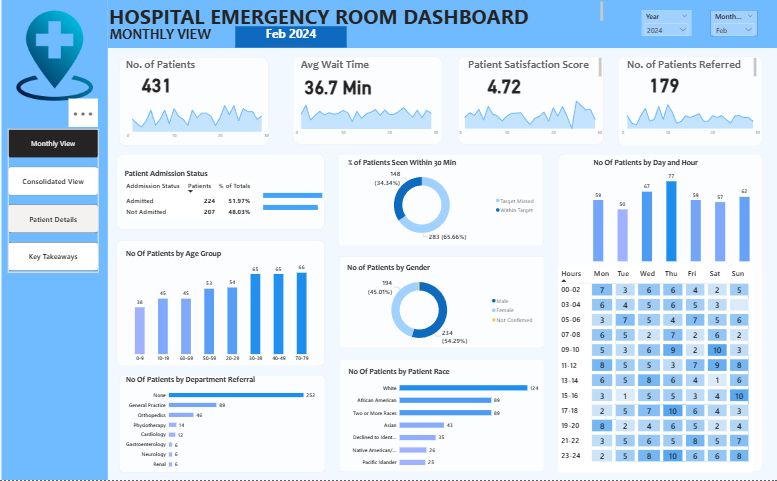

Layout of this report page (visuals, bound fields, positions):
{"tool":"powerbi","page":{"name":"Monthly View","canvas":[2300,1400],"ordinal":0},"visuals":[{"type":"shape","box":[8.6,0,310,1400.4],"z":0},{"type":"shape","box":[317.2,0,1983.4,140],"z":1000},{"type":"textbox","box":[317,0,1449.3,75.9],"z":2000},{"type":"shape","box":[350.2,166.5,436.1,257.4],"z":3000},{"type":"textbox","box":[317.2,68.6,371.5,71.4],"z":4000},{"type":"card","fields":{"Values":["Hospital ER_Data - Hospital ER_Data.No Of Patients"]},"box":[383,200.1,154.3,82.9],"z":5000},{"type":"slicer","fields":{"Values":["Date Table.Year"]},"box":[1874.6,29.8,146.3,75.9],"z":6000},{"type":"slicer","fields":{"Values":["Date Table.Month Name"]},"box":[2075.1,29.8,138.2,75.9],"z":7000},{"type":"textbox","box":[363,162.5,284.4,73.1],"z":8000},{"type":"areaChart","fields":{"Category":["Date Table.Date.Variation.Date Hierarchy.Day"],"Y":["Hospital ER_Data - Hospital ER_Data.No Of Patients"]},"box":[360.3,281.7,433.4,132.7],"z":9000},{"type":"card","fields":{"Values":["Min(Date Table.Month & Year)"]},"box":[688.1,75.9,325.1,62.3],"z":10000},{"type":"shape","box":[1335.5,162.5,425.3,257.4],"z":11000},{"type":"card","fields":{"Values":["Hospital ER_Data - Hospital ER_Data.Satisfaction Score"]},"box":[1395.1,203.2,154.4,84],"z":12000},{"type":"textbox","box":[1362.6,162.5,398.2,65],"z":13000},{"type":"areaChart","fields":{"Category":["Date Table.Date.Variation.Date Hierarchy.Day"],"Y":["Hospital ER_Data - Hospital ER_Data.Satisfaction Score"]},"box":[1330.1,281.7,436.1,124.6],"z":14000},{"type":"shape","box":[1804.2,162.5,422.6,262.8],"z":15000},{"type":"card","fields":{"Values":["Hospital ER_Data - Hospital ER_Data.No of patients Reffered"]},"box":[1861.1,200.5,154.4,81.3],"z":16000},{"type":"textbox","box":[1825.9,162.5,387.4,65],"z":17000},{"type":"shape","box":[344,449.7,606.8,222.1],"z":18000},{"type":"areaChart","fields":{"Category":["Date Table.Date.Variation.Date Hierarchy.Day"],"Y":["Hospital ER_Data - Hospital ER_Data.No of patients Reffered"]},"box":[1804.2,281.7,422.6,124.6],"z":19000},{"type":"shape","box":[856,162.5,436.1,257.4],"z":20000},{"type":"card","fields":{"Values":["Hospital ER_Data - Hospital ER_Data.Avg Wait Time"]},"box":[875,205.9,227.6,81.3],"z":21000},{"type":"textbox","box":[875,162.5,276.3,70.4],"z":22000},{"type":"areaChart","fields":{"Category":["Date Table.Date.Variation.Date Hierarchy.Day"],"Y":["Avg(Hospital ER_Data - Hospital ER_Data.Patient Waittime)"]},"box":[853.3,281.7,436.1,124.6],"z":23000},{"type":"pivotTable","title":"Patient Admission Status","fields":{"Rows":["Hospital ER_Data - Hospital ER_Data.Addmission Status"],"Values":["Hospital ER_Data - Hospital ER_Data.No Of Patients","Divide(Hospital ER_Data - Hospital ER_Data.No Of Patients, ScopedEval(Hospital ER_Data - Hospital ER_Data.No Of Patients"]},"box":[360.3,490.3,623.1,181.5],"z":24000},{"type":"barChart","fields":{"Category":["Hospital ER_Data - Hospital ER_Data.Addmission Status"],"Y":["Hospital ER_Data - Hospital ER_Data.No Of Patients"]},"box":[766.6,531,241.1,105.7],"z":25000},{"type":"shape","box":[344,698.9,606.8,368],"z":26000},{"type":"clusteredColumnChart","fields":{"Category":["Hospital ER_Data - Hospital ER_Data.Age Group"],"Y":["Hospital ER_Data - Hospital ER_Data.No Of Patients"]},"box":[365.7,726,566.2,341.3],"z":27000},{"type":"shape","box":[349.5,1091.7,601.4,284.4],"z":28000},{"type":"clusteredBarChart","fields":{"Category":["Hospital ER_Data - Hospital ER_Data.Department Referral"],"Y":["Hospital ER_Data - Hospital ER_Data.No Of Patients"]},"box":[363,1091.7,566.2,284.4],"z":29000},{"type":"shape","box":[988.8,449.7,600,270],"z":30000},{"type":"donutChart","title":"% of Patients Seen Within 30 Min","fields":{"Category":["Hospital ER_Data - Hospital ER_Data.Waittime Status"],"Y":["Hospital ER_Data - Hospital ER_Data.No Of Patients"]},"box":[1013.2,457.8,560.8,249.2],"z":31000},{"type":"shape","box":[991.5,747.7,598.7,268.2],"z":32000},{"type":"donutChart","title":"No of Patients by Gender","fields":{"Y":["Hospital ER_Data - Hospital ER_Data.No Of Patients"],"Category":["Hospital ER_Data - Hospital ER_Data.Patient Gender"]},"box":[1007.7,766.6,560.8,249.2],"z":33000},{"type":"shape","box":[991.5,1045.7,598.7,330.5],"z":34000},{"type":"clusteredBarChart","fields":{"Y":["Hospital ER_Data - Hospital ER_Data.No Of Patients"],"Category":["Hospital ER_Data - Hospital ER_Data.Patient Race"]},"box":[1013.2,1067.3,566.2,308.8],"z":35000},{"type":"image","box":[27.1,24.4,273.6,273.6],"z":36000},{"type":"shape","box":[1628.1,449.7,598.7,926.5],"z":37000},{"type":"pivotTable","fields":{"Rows":["Hospital ER_Data - Hospital ER_Data.Waittime Interval"],"Columns":["Date Table.Day Name"],"Values":["Hospital ER_Data - Hospital ER_Data.No Of Patients"]},"box":[1628.1,774.8,568.9,601.4],"z":38000},{"type":"columnChart","title":"No Of Patients by Day and Hour","fields":{"Category":["Date Table.Day Name"],"Y":["Hospital ER_Data - Hospital ER_Data.No Of Patients"]},"box":[1728.3,457.8,468.7,308.8],"z":39000},{"type":"pageNavigator","box":[27.1,376.6,265.5,417.2],"z":39001}]}

Visuals, with their boxes in screenshot pixels (x1, y1, x2, y2), scaled from the page's 2300x1400 canvas onto the 777x481 screenshot:
shape: [3, 0, 108, 480]
shape: [107, 0, 776, 48]
textbox: [107, 0, 597, 26]
shape: [118, 57, 266, 146]
textbox: [107, 24, 233, 48]
card - Hospital ER_Data - Hospital ER_Data.No Of Patients: [129, 69, 182, 97]
slicer - Date Table.Year: [633, 10, 683, 36]
slicer - Date Table.Month Name: [701, 10, 748, 36]
textbox: [123, 56, 219, 81]
areaChart - Date Table.Date.Variation.Date Hierarchy.Day x Hospital ER_Data - Hospital ER_Data.No Of Patients: [122, 97, 268, 142]
card - Min(Date Table.Month & Year): [232, 26, 342, 47]
shape: [451, 56, 595, 144]
card - Hospital ER_Data - Hospital ER_Data.Satisfaction Score: [471, 70, 523, 99]
textbox: [460, 56, 595, 78]
areaChart - Date Table.Date.Variation.Date Hierarchy.Day x Hospital ER_Data - Hospital ER_Data.Satisfaction Score: [449, 97, 597, 140]
shape: [610, 56, 752, 146]
card - Hospital ER_Data - Hospital ER_Data.No of patients Reffered: [629, 69, 681, 97]
textbox: [617, 56, 748, 78]
shape: [116, 155, 321, 231]
areaChart - Date Table.Date.Variation.Date Hierarchy.Day x Hospital ER_Data - Hospital ER_Data.No of patients Reffered: [610, 97, 752, 140]
shape: [289, 56, 437, 144]
card - Hospital ER_Data - Hospital ER_Data.Avg Wait Time: [296, 71, 372, 99]
textbox: [296, 56, 389, 80]
areaChart - Date Table.Date.Variation.Date Hierarchy.Day x Avg(Hospital ER_Data - Hospital ER_Data.Patient Waittime): [288, 97, 436, 140]
"Patient Admission Status" pivotTable: [122, 168, 332, 231]
barChart - Hospital ER_Data - Hospital ER_Data.Addmission Status x Hospital ER_Data - Hospital ER_Data.No Of Patients: [259, 182, 340, 219]
shape: [116, 240, 321, 367]
clusteredColumnChart - Hospital ER_Data - Hospital ER_Data.Age Group x Hospital ER_Data - Hospital ER_Data.No Of Patients: [124, 249, 315, 367]
shape: [118, 375, 321, 473]
clusteredBarChart - Hospital ER_Data - Hospital ER_Data.Department Referral x Hospital ER_Data - Hospital ER_Data.No Of Patients: [123, 375, 314, 473]
shape: [334, 155, 537, 247]
"% of Patients Seen Within 30 Min" donutChart: [342, 157, 532, 243]
shape: [335, 257, 537, 349]
"No of Patients by Gender" donutChart: [340, 263, 530, 349]
shape: [335, 359, 537, 473]
clusteredBarChart - Hospital ER_Data - Hospital ER_Data.No Of Patients x Hospital ER_Data - Hospital ER_Data.Patient Race: [342, 367, 534, 473]
image: [9, 8, 102, 102]
shape: [550, 155, 752, 473]
pivotTable - Hospital ER_Data - Hospital ER_Data.Waittime Interval x Date Table.Day Name: [550, 266, 742, 473]
"No Of Patients by Day and Hour" columnChart: [584, 157, 742, 263]
pageNavigator: [9, 129, 99, 273]
